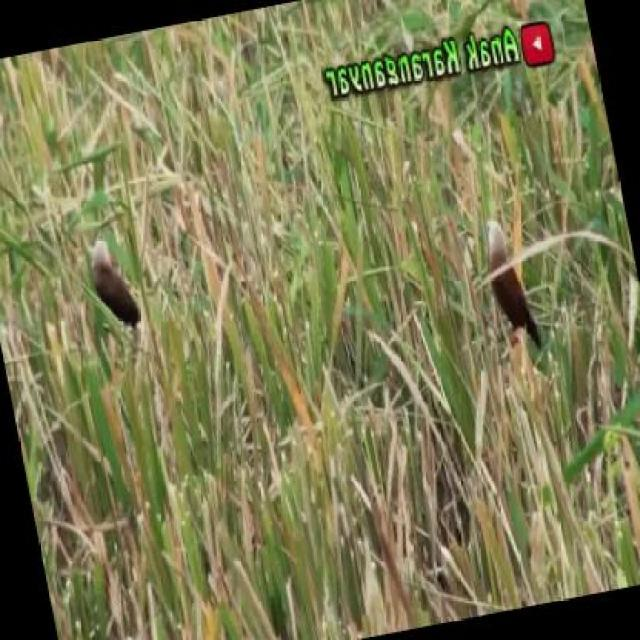Bird: (471, 206, 554, 347), (64, 229, 150, 333)
